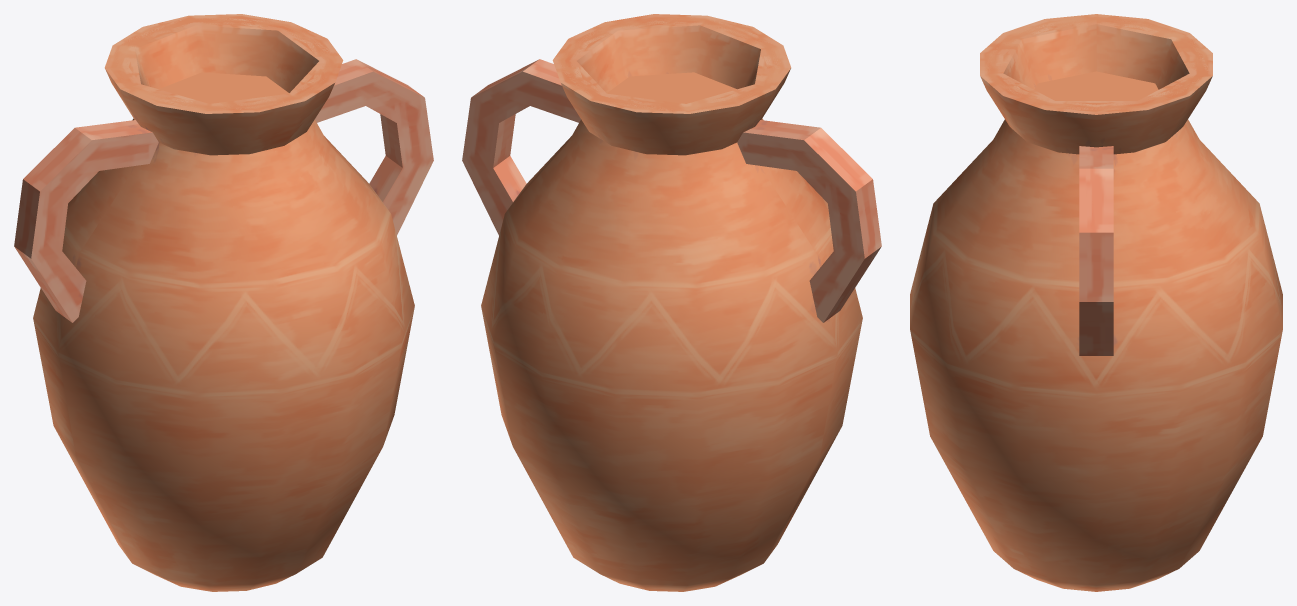
The model's file is pot_tall.bundle.fbx.
3 renders of one model, left to right at view 1: azimuth 30°, elevation 25°; view 2: azimuth 150°, elevation 25°; view 3: azimuth 270°, elevation 25°, orthographic.
Parts seen in each view (by area): view 1: pot_tall, pot_tall_low, pot_tall_s00, pot_tall_s03, pot_tall_s04; view 2: pot_tall, pot_tall_low, pot_tall_s03, pot_tall_s00; view 3: pot_tall, pot_tall_low, pot_tall_s04, pot_tall_s00.
Part boxes in pixels (x1=…): pot_tall: x1=17, y1=14, x2=428, y2=591; pot_tall_low: x1=14, y1=16, x2=433, y2=322; pot_tall_s00: x1=22, y1=99, x2=423, y2=193; pot_tall_s03: x1=14, y1=183, x2=76, y2=258; pot_tall_s04: x1=374, y1=158, x2=433, y2=226; pot_tall: x1=468, y1=14, x2=878, y2=591; pot_tall_low: x1=462, y1=16, x2=881, y2=322; pot_tall_s03: x1=811, y1=172, x2=881, y2=321; pot_tall_s00: x1=463, y1=114, x2=863, y2=202; pot_tall: x1=910, y1=14, x2=1282, y2=591; pot_tall_low: x1=981, y1=14, x2=1211, y2=355; pot_tall_s04: x1=1079, y1=283, x2=1113, y2=355; pot_tall_s00: x1=1079, y1=232, x2=1113, y2=303.
Size of the model in its own units: 2.72 by 3.2 by 2.18.
Materials: 1 (1 with a texture image).
